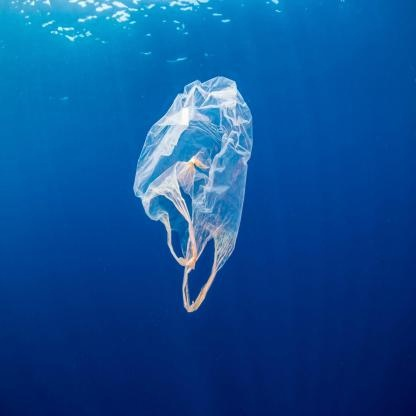pbag: (129, 69, 256, 320)
